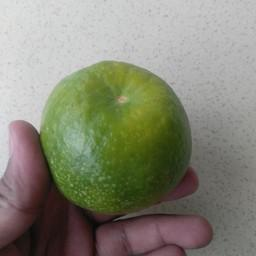Good_orange: (37, 57, 192, 220)
